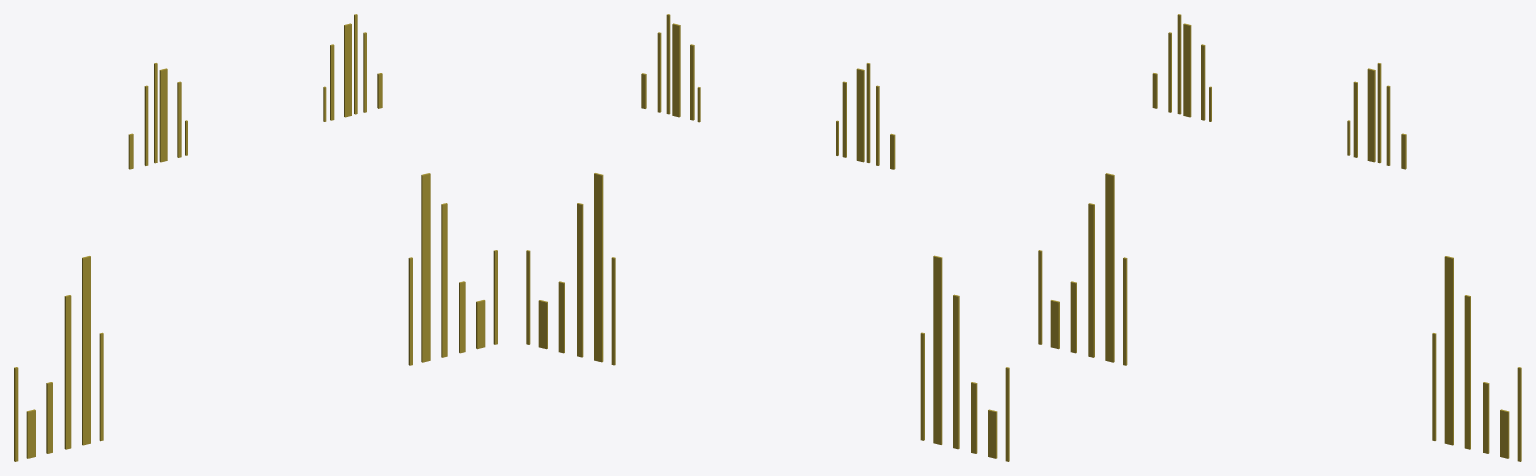
File: Elevator Dekor.fbx
3 renders of one model, left to right at view 1: azimuth 30°, elevation 25°; view 2: azimuth 150°, elevation 25°; view 3: azimuth 330°, elevation 25°, orthographic.
Parts seen in each view (by area): view 1: Elevator Dekor right, Elevator Dekor left, Elevator Dekor top left, Elevator Dekor top right; view 2: Elevator Dekor left, Elevator Dekor right, Elevator Dekor top right, Elevator Dekor top left; view 3: Elevator Dekor left, Elevator Dekor right, Elevator Dekor top right, Elevator Dekor top left.
Boxes of the visible parts, x1,y1,x2,y2 form: Elevator Dekor right: [408, 173, 497, 365]; Elevator Dekor left: [14, 256, 103, 461]; Elevator Dekor top left: [128, 63, 187, 169]; Elevator Dekor top right: [323, 14, 382, 121]; Elevator Dekor left: [920, 255, 1009, 461]; Elevator Dekor right: [526, 173, 615, 365]; Elevator Dekor top right: [641, 14, 700, 122]; Elevator Dekor top left: [836, 63, 895, 169]; Elevator Dekor left: [1038, 173, 1127, 365]; Elevator Dekor right: [1432, 256, 1521, 461]; Elevator Dekor top right: [1347, 63, 1406, 169]; Elevator Dekor top left: [1152, 14, 1211, 121].
Bounding box in the file's own units: 420 × 303 × 2.07.
